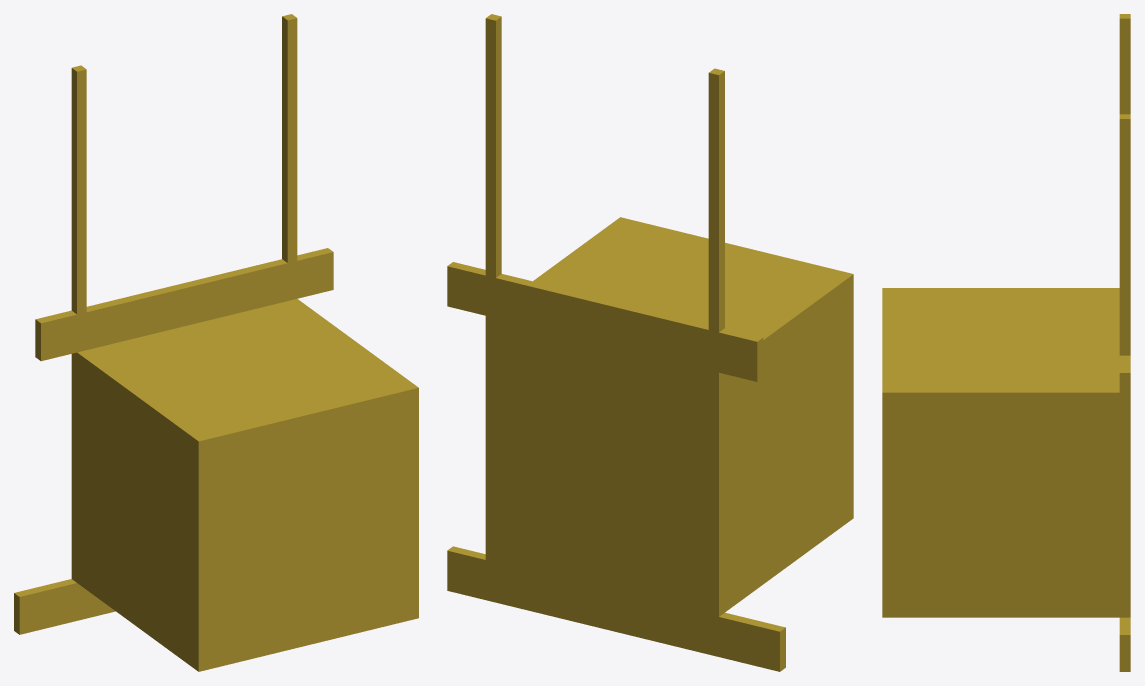
The model's file is rot2_bridge.gltf.
3 renders of one model, left to right at view 1: azimuth 30°, elevation 25°; view 2: azimuth 150°, elevation 25°; view 3: azimuth 270°, elevation 25°, orthographic. The views are drawn at different scales.
Visible parts, largest first — view 1: rot2.bridge; view 2: rot2.bridge; view 3: rot2.bridge.
Boxes of the visible parts, bbox=[...] form: rot2.bridge: bbox=[14, 14, 418, 671]; rot2.bridge: bbox=[447, 14, 853, 671]; rot2.bridge: bbox=[882, 14, 1130, 671].
Size of the model in its own units: 6.5 by 10.86 by 4.56.
